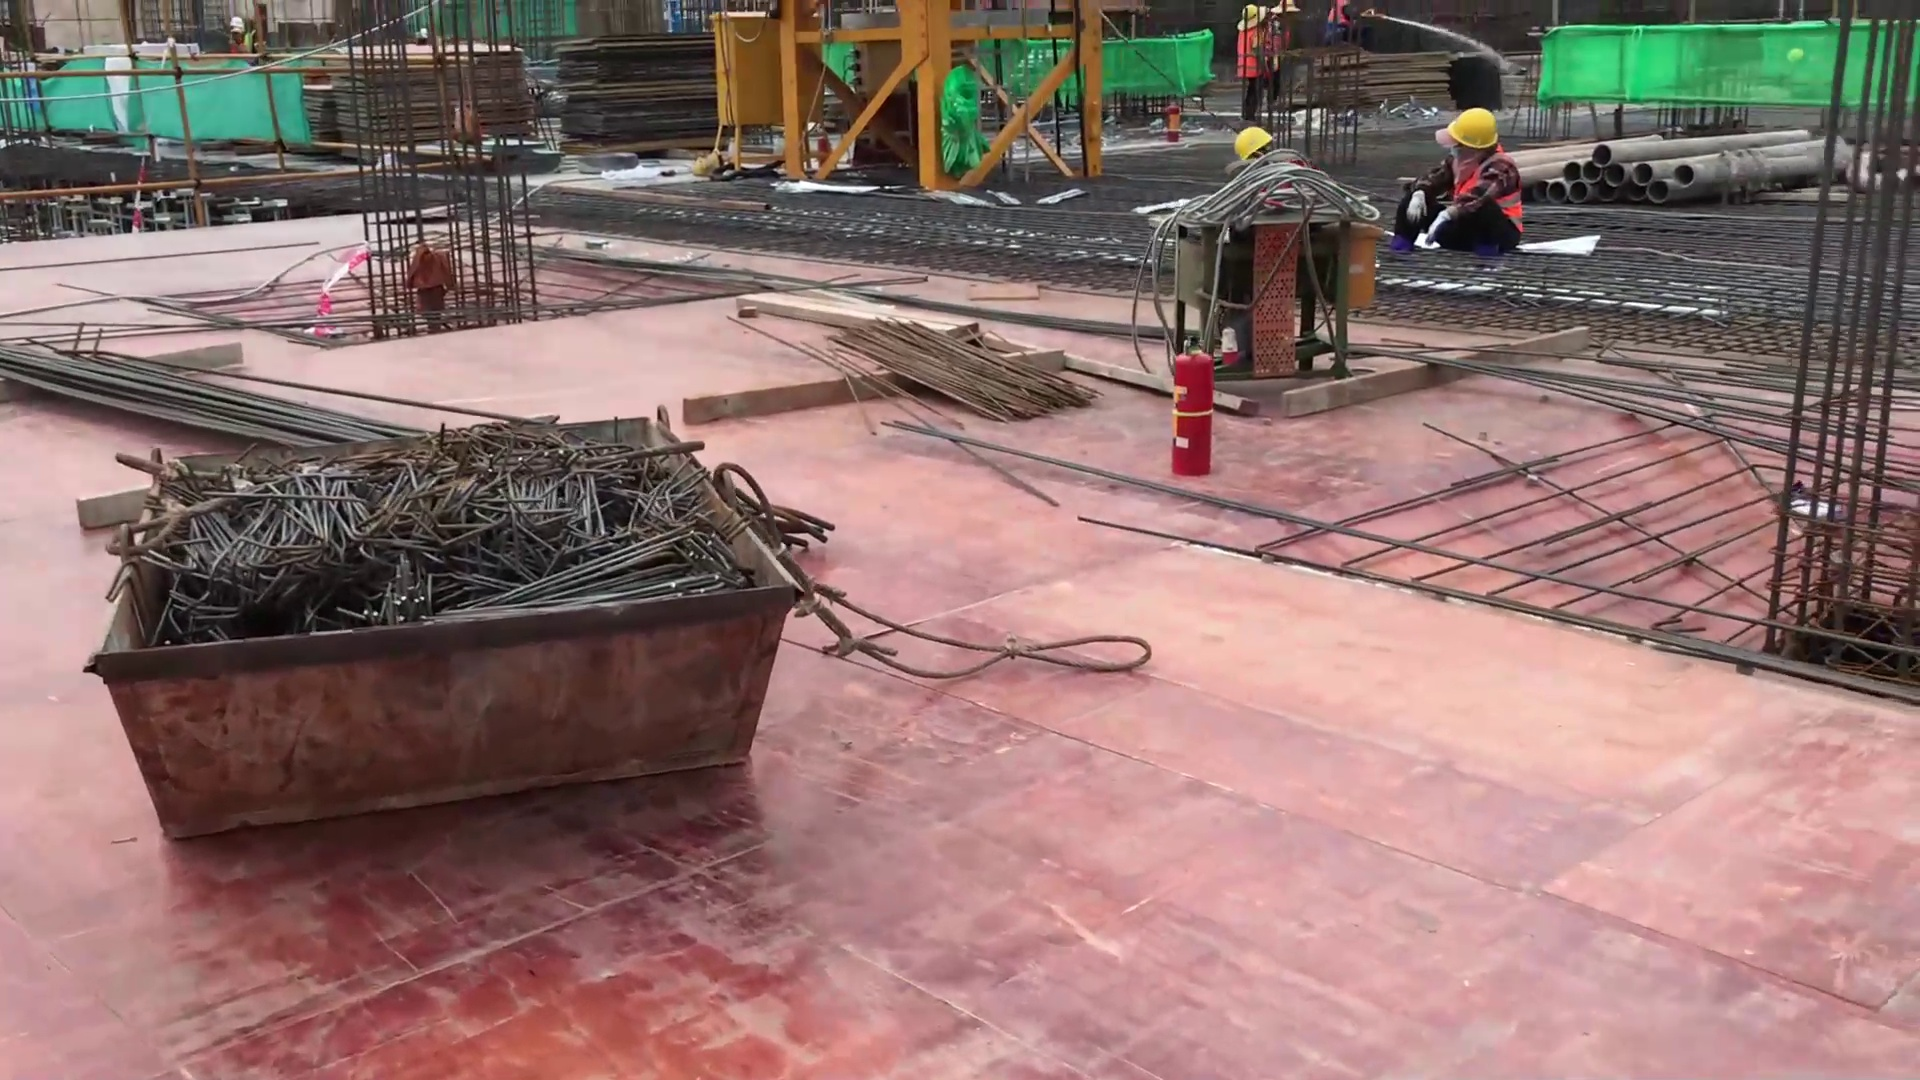ebox: (697, 1, 869, 201)
helmet: (1440, 106, 1505, 158), (1227, 126, 1279, 162), (224, 19, 244, 31)
hopper: (85, 412, 851, 851)
person: (1385, 95, 1529, 260), (1232, 1, 1270, 121), (1272, 1, 1302, 51)
rebar: (23, 326, 346, 459), (811, 296, 1100, 430)
vest: (1436, 145, 1532, 233)
